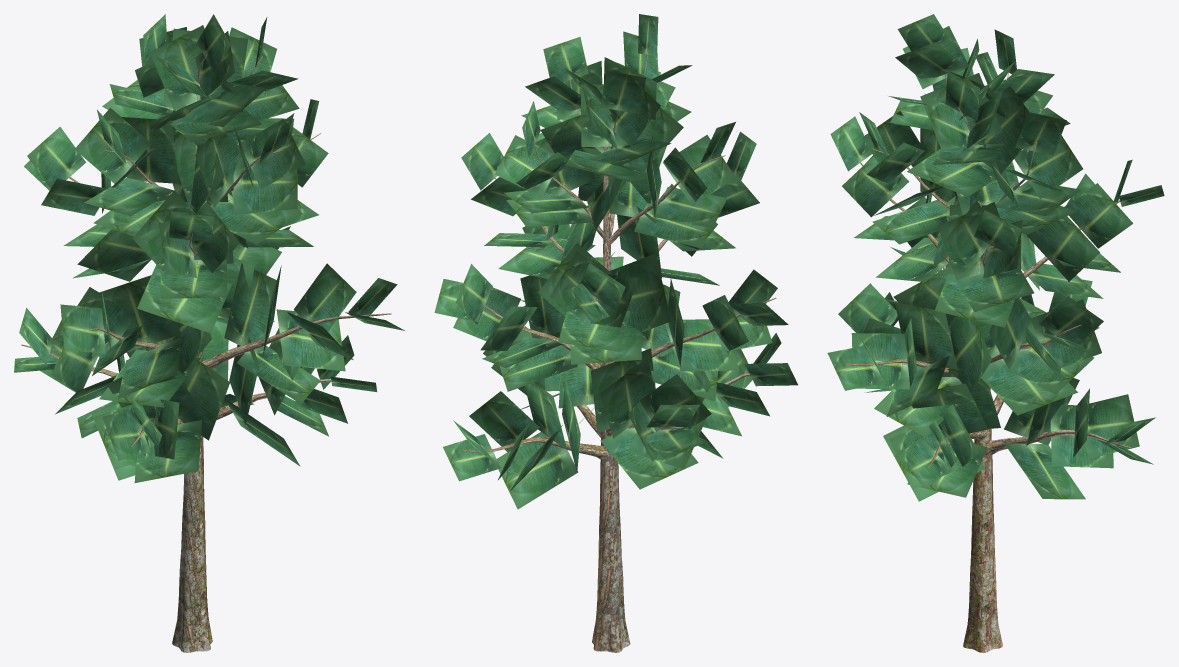
The model's file is tree1.fbx.
3 renders of one model, left to right at view 1: azimuth 30°, elevation 25°; view 2: azimuth 150°, elevation 25°; view 3: azimuth 270°, elevation 25°, orthographic. The views are drawn at different scales.
Visible parts, largest first — view 1: Tree_1, Tree_0; view 2: Tree_1, Tree_0; view 3: Tree_1, Tree_0.
Boxes of the visible parts, bbox=[...] form: Tree_1: bbox=[14, 14, 404, 482]; Tree_0: bbox=[21, 53, 391, 652]; Tree_1: bbox=[434, 14, 797, 509]; Tree_0: bbox=[458, 49, 776, 652]; Tree_1: bbox=[827, 14, 1164, 501]; Tree_0: bbox=[845, 72, 1130, 652].
Size of the model in its own units: 57.1 by 113 by 55.17.
Materials: 2 (2 with a texture image).
